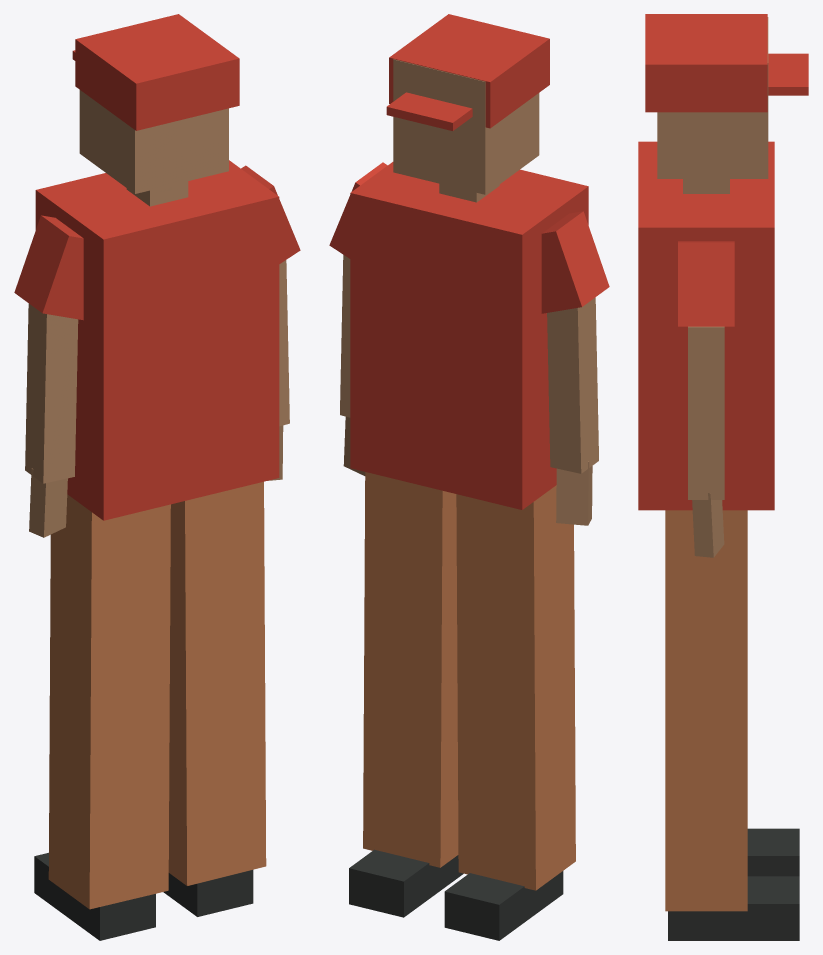
Rendered from pedestrian_13_far.glb.
3 views of the same model, side by side, from view 1: azimuth 30°, elevation 25°; view 2: azimuth 150°, elevation 25°; view 3: azimuth 270°, elevation 25° (orthographic). The views are drawn at different scales.
Visible parts, largest first — view 1: pedestrian_13 crowd_trousers.001, pedestrian_13 crowd_shirt.001, pedestrian_13 crowd_skin.001, pedestrian_13 crowd_accessory.001, pedestrian_13 crowd_rubber.001; view 2: pedestrian_13 crowd_trousers.001, pedestrian_13 crowd_shirt.001, pedestrian_13 crowd_skin.001, pedestrian_13 crowd_accessory.001, pedestrian_13 crowd_rubber.001; view 3: pedestrian_13 crowd_shirt.001, pedestrian_13 crowd_trousers.001, pedestrian_13 crowd_skin.001, pedestrian_13 crowd_accessory.001, pedestrian_13 crowd_rubber.001.
Part boxes in pixels (x1,y1,x2,y2): pedestrian_13 crowd_trousers.001: (48,481,266,909); pedestrian_13 crowd_shirt.001: (14,160,300,520); pedestrian_13 crowd_skin.001: (25,90,289,537); pedestrian_13 crowd_accessory.001: (72,14,239,130); pedestrian_13 crowd_rubber.001: (34,852,253,940); pedestrian_13 crowd_trousers.001: (363,472,575,890); pedestrian_13 crowd_shirt.001: (329,162,609,509); pedestrian_13 crowd_skin.001: (340,59,598,525); pedestrian_13 crowd_accessory.001: (386,14,549,130); pedestrian_13 crowd_rubber.001: (349,849,563,940); pedestrian_13 crowd_shirt.001: (638,141,774,510); pedestrian_13 crowd_trousers.001: (665,510,747,911); pedestrian_13 crowd_skin.001: (657,17,768,557); pedestrian_13 crowd_accessory.001: (645,14,808,112); pedestrian_13 crowd_rubber.001: (668,828,799,940).
Bounding box in the file's own units: 0.5717 × 1.82 × 0.325.
